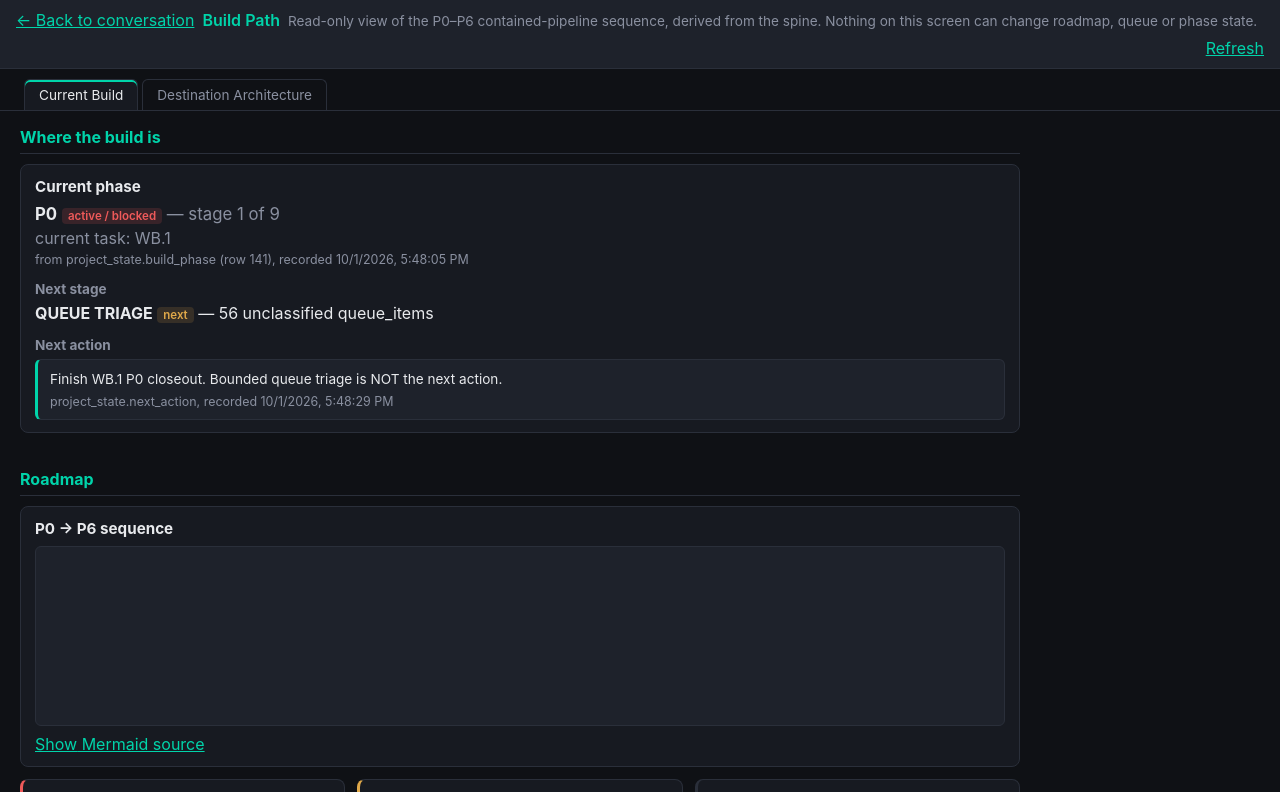
it: BuildPath (read-only build path visualization) › swaps the whole view when the destination tab is selected, keeping no phase content
Expected: the heading "Current phase" is shown, [35,177,141,196]
Click the tab "Destination Architecture": click(235, 94) [142,79,327,110]
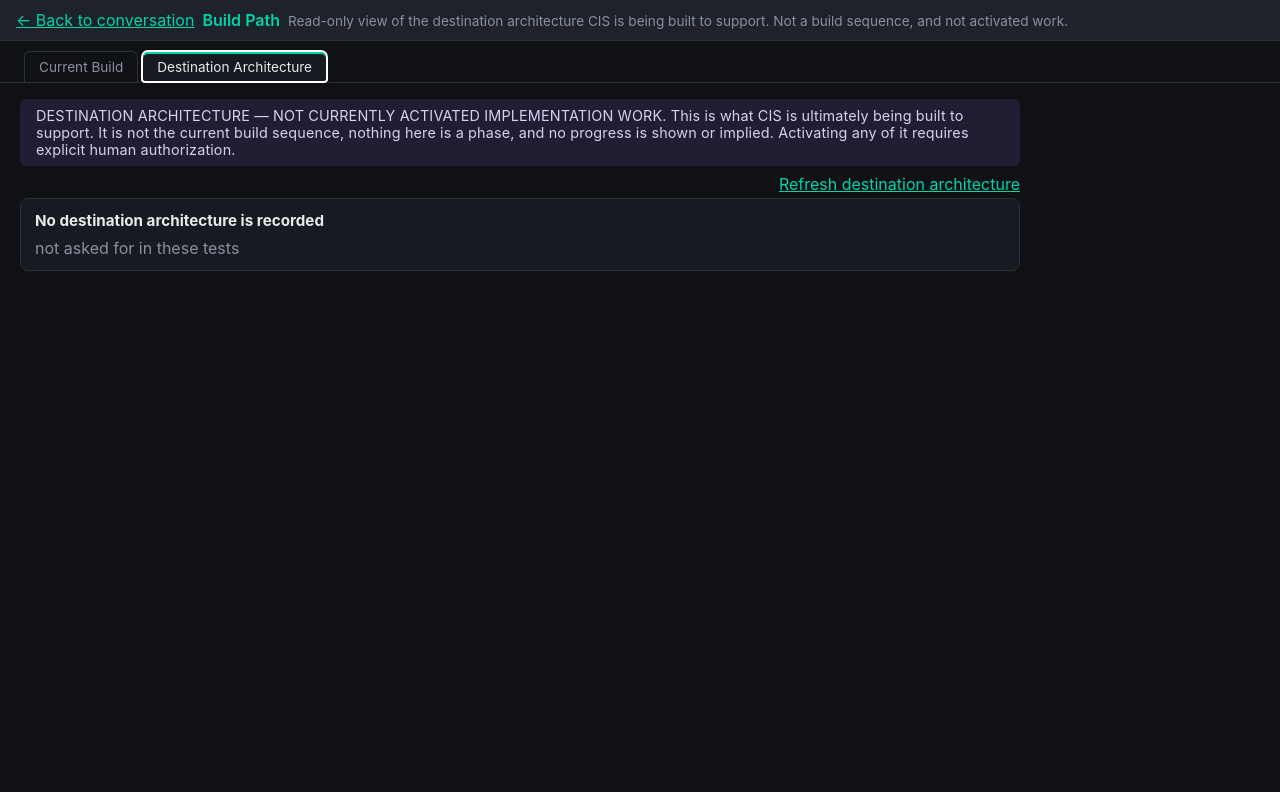
Expected: the text with test id "da-scope-banner" shows "NOT CURRENTLY ACTIVATED IMPLEMENTATION WORK", [36,107,969,158]
Expected: the heading "Current phase" is gone
Expected: the heading "P0 → P6 sequence" is gone
Click the tab "Current Build": click(81, 66) [24,51,138,82]
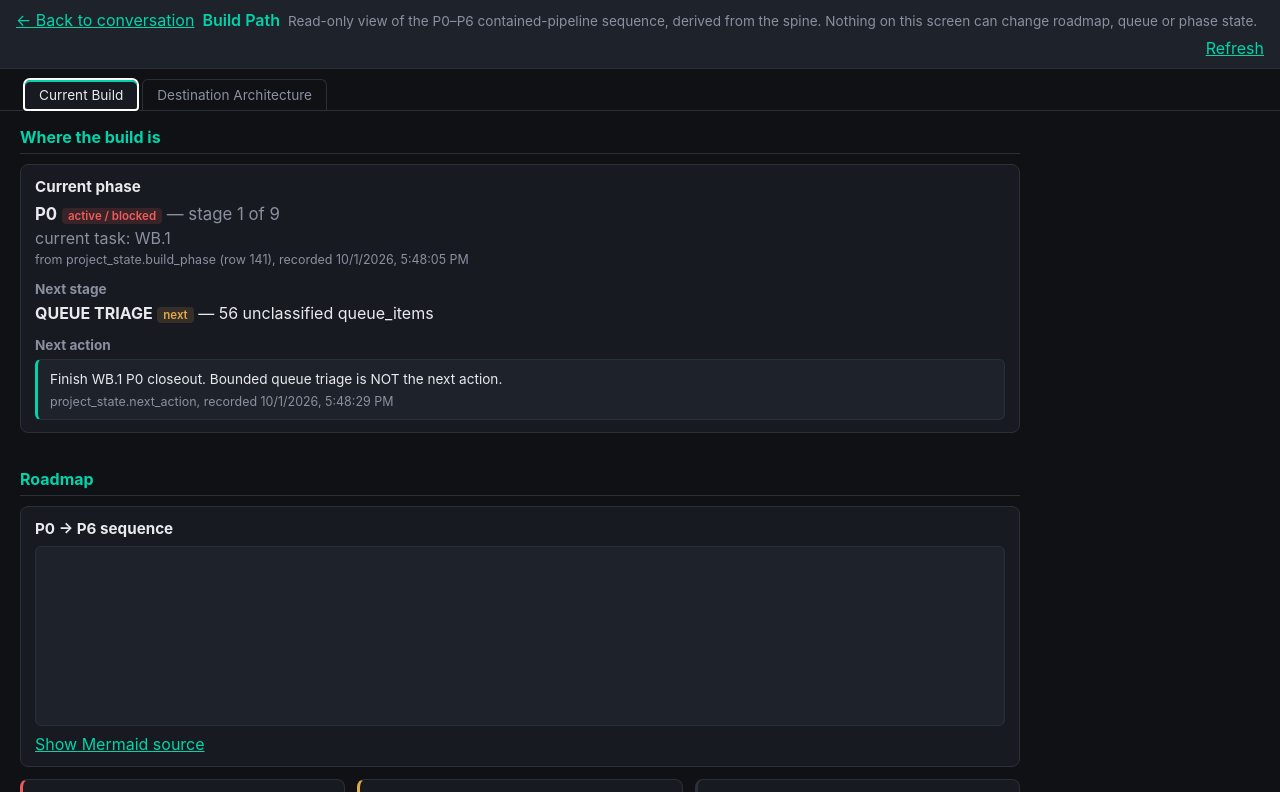
Expected: the heading "Current phase" is shown, [35,177,141,196]
Expected: the text with test id "da-scope-banner" is gone
